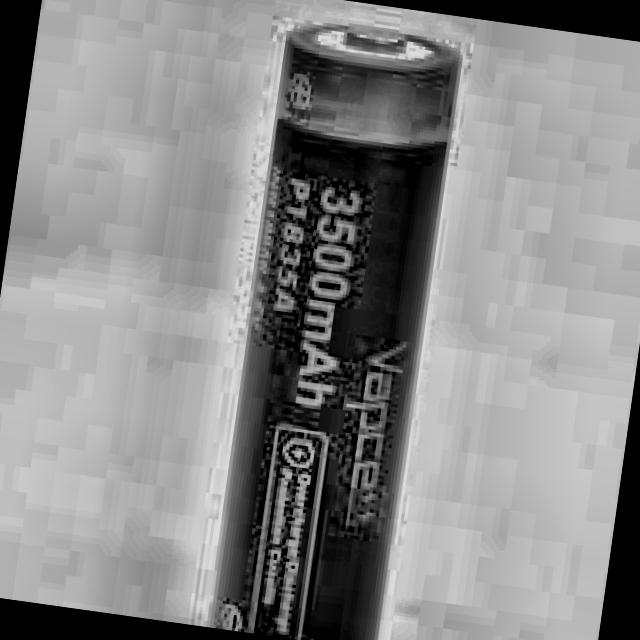Battery: (209, 24, 460, 640)
